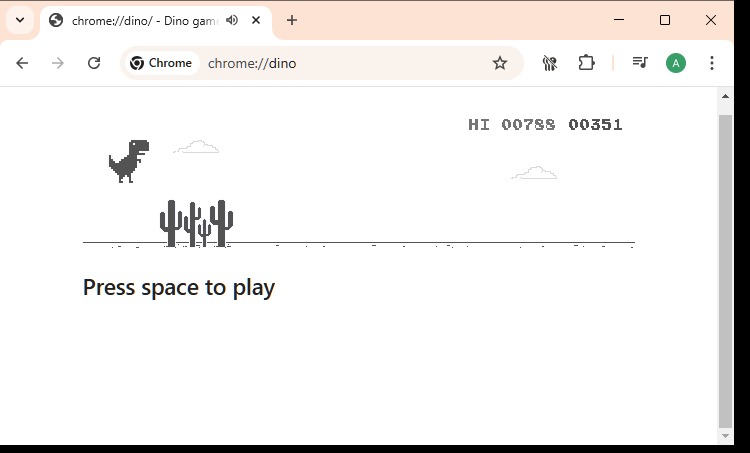cactus: (159, 199, 183, 248), (210, 200, 233, 248), (183, 200, 201, 247), (198, 219, 211, 248)
dino: (108, 139, 150, 184)
